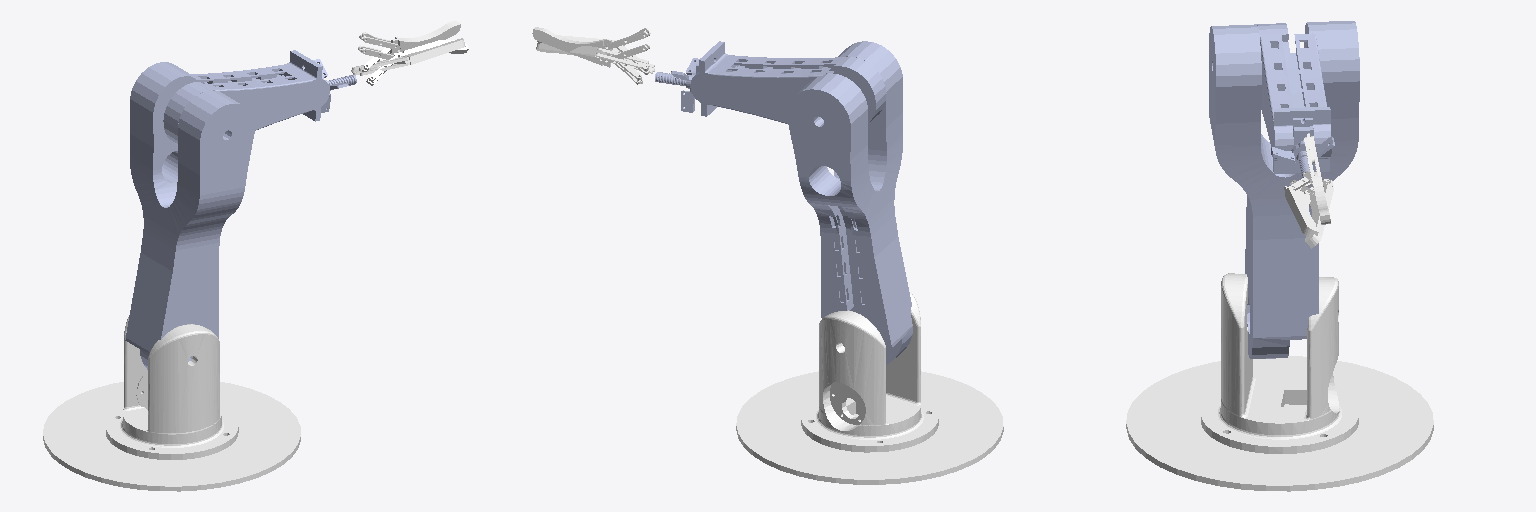
The robot description file, URDF, robot "Ensamblee":
<?xml version="1.0" encoding="utf-8"?>
<robot name="Ensamblee">

  <link name="world"/>
  <joint name="fixed_base" type="fixed">
    <parent link="world"/>
    <child link="base_link"/>
    <origin xyz="0 0 0" rpy="0 0 0"/>
  </joint>

  <link name="base_link">
    <inertial>
      <origin xyz="0.035133 0.0010982 0.059578" rpy="0 0 0" />
      <mass value="1.6222" />
      <inertia ixx="0.0057091" ixy="0.00016017" ixz="-1.9562E-07" iyy="0.0078069" iyz="7.9795E-07" izz="0.01293" />
    </inertial>
    <visual>
      <origin xyz="0 0 0" rpy="0 0 0" />
      <geometry><mesh filename="model://Ensamblee/meshes/base_link.STL" /></geometry>
      <material name="gris_azulado"><color rgba="0.79216 0.81961 0.93333 1" /></material>
    </visual>
    <collision>
      <origin xyz="0 0 0" rpy="0 0 0" />
      <geometry><mesh filename="model://Ensamblee/meshes/base_link.STL" /></geometry>
    </collision>
  </link>

  <link name="base_giratoria">
    <inertial>
      <origin xyz="-0.00012545 -0.0015041 0.14037" rpy="0 0 0" />
      <mass value="0.27811" />
      <inertia ixx="0.00049658" ixy="-4.0519E-06" ixz="-2.3048E-07" iyy="0.00045443" iyz="-3.5467E-06" izz="0.00066548" />
    </inertial>
    <visual>
      <origin xyz="0 0 0" rpy="0 0 0" />
      <geometry><mesh filename="model://Ensamblee/meshes/base_giratoria.STL" /></geometry>
      <material name="blanco"><color rgba="1 1 1 1" /></material>
    </visual>
    <collision>
      <origin xyz="0 0 0" rpy="0 0 0" />
      <geometry><mesh filename="model://Ensamblee/meshes/base_giratoria.STL" /></geometry>
    </collision>
  </link>
  <joint name="joint_1" type="revolute">
    <origin xyz="0 0 0" rpy="0 0 0" />
    <parent link="base_link" /><child link="base_giratoria" /><axis xyz="0 0 1" />
    <limit lower="-3.14" upper="3.14" effort="100" velocity="3.14" />
    <dynamics damping="10.0" friction="1.0"/>
  </joint>

  <link name="brazo_inferior">
    <inertial>
      <origin xyz="0.10277 -0.010539 0.0045472" rpy="0 0 0" />
      <mass value="0.41319" />
      <inertia ixx="0.00031344" ixy="0.00016033" ixz="4.1036E-05" iyy="0.0018606" iyz="-4.2071E-06" izz="0.0017287" />
    </inertial>
    <visual>
      <origin xyz="0 0 0" rpy="0 0 0" />
      <geometry><mesh filename="model://Ensamblee/meshes/brazo_inferior.STL" /></geometry>
      <material name="gris_azulado"><color rgba="0.79216 0.81961 0.93333 1" /></material>
    </visual>
    <collision>
      <origin xyz="0 0 0" rpy="0 0 0" />
      <geometry><mesh filename="model://Ensamblee/meshes/brazo_inferior.STL" /></geometry>
    </collision>
  </link>
  <joint name="joint_2" type="revolute">
    <origin xyz="0.00032733 0.0034847 0.1945" rpy="1.6645 -1.5708 0" />
    <parent link="base_giratoria" /><child link="brazo_inferior" /><axis xyz="0 0 -1" />
    <limit lower="-1.57" upper="1.57" effort="100" velocity="3.14" />
    <dynamics damping="15.0" friction="2.0"/>
  </joint>

  <link name="brazo_superior">
    <inertial>
      <origin xyz="0.049945 -0.003032 0.0023765" rpy="0 0 0" />
      <mass value="0.13139" />
      <inertia ixx="2.7543E-05" ixy="6.4343E-06" ixz="1.1157E-05" iyy="0.00016188" iyz="-6.8148E-07" izz="0.00016442" />
    </inertial>
    <visual>
      <origin xyz="0 0 0" rpy="0 0 0" />
      <geometry><mesh filename="model://Ensamblee/meshes/brazo_superior.STL" /></geometry>
      <material name="gris_azulado"><color rgba="0.79216 0.81961 0.93333 1" /></material>
    </visual>
    <collision>
      <origin xyz="0 0 0" rpy="0 0 0" />
      <geometry><mesh filename="model://Ensamblee/meshes/brazo_superior.STL" /></geometry>
    </collision>
  </link>
  <joint name="joint_3" type="revolute">
    <origin xyz="0.17906 -0.018361 0.00076231" rpy="0 0 -1.5708" />
    <parent link="brazo_inferior" /><child link="brazo_superior" /><axis xyz="0 0 -1" />
    <limit lower="-1.57" upper="1.57" effort="100" velocity="3.14" />
    <dynamics damping="10.0" friction="1.0"/>
  </joint>

  <link name="ensamblaje_corto">
    <inertial><mass value="0.05"/><inertia ixx="1e-4" ixy="0" ixz="0" iyy="1e-4" iyz="0" izz="1e-4"/></inertial>
    <visual>
      <origin xyz="0 0 0" rpy="0 0 0" />
      <geometry><mesh filename="model://Ensamblee/meshes/ensamblaje_corto.STL" /></geometry>
      <material name="gris_oscuro"><color rgba="0.3 0.3 0.3 1" /></material>
    </visual>
    <collision>
      <geometry><mesh filename="model://Ensamblee/meshes/ensamblaje_corto.STL" /></geometry>
    </collision>
  </link>
  <joint name="joint_corto" type="fixed">
    <origin xyz="0.125 0 0" rpy="0 0 0" />
    <parent link="brazo_superior" /><child link="ensamblaje_corto" />
  </joint>

  <link name="dedo_1">
    <visual><geometry><mesh filename="model://Ensamblee/meshes/dedo_1.STL"/></geometry><material name="blanco"/></visual>
  </link>
  <joint name="joint_4" type="revolute">
    <origin xyz="0.03 -0.01 0.01" rpy="2.25 0 0" /><parent link="ensamblaje_corto" /><child link="dedo_1" /><axis xyz="0 0 1" /><limit lower="0" upper="0.5" effort="10" velocity="1" />
  </joint>

  <link name="dedo_2">
    <visual><geometry><mesh filename="model://Ensamblee/meshes/dedo_2.STL"/></geometry><material name="blanco"/></visual>
  </link>
  <joint name="joint_5" type="revolute">
    <origin xyz="0.03 -0.01 -0.01" rpy="-1.94 0 0" /><parent link="ensamblaje_corto" /><child link="dedo_2" /><axis xyz="0 0 1" /><limit lower="0" upper="0.5" effort="10" velocity="1" />
  </joint>

  <link name="dedo_3">
    <visual><geometry><mesh filename="model://Ensamblee/meshes/dedo_3.STL"/></geometry><material name="blanco"/></visual>
  </link>
  <joint name="joint_6" type="revolute">
    <origin xyz="0.03 0.02 0" rpy="0.15 0 0" /><parent link="ensamblaje_corto" /><child link="dedo_3" /><axis xyz="0 0 1" /><limit lower="0" upper="0.5" effort="10" velocity="1" />
  </joint>

  <gazebo>
    <plugin filename="gz-sim-joint-state-publisher-system" name="gz::sim::systems::JointStatePublisher">
      <joint_name>joint_1</joint_name><joint_name>joint_2</joint_name><joint_name>joint_3</joint_name>
    </plugin>
    <plugin filename="gz-sim-joint-position-controller-system" name="gz::sim::systems::JointPositionController">
      <joint_name>joint_1</joint_name><topic>/model/Ensamblee/joint/joint_1/cmd_pos</topic>
      <p_gain>1000</p_gain><d_gain>50</d_gain> </plugin>
    <plugin filename="gz-sim-joint-position-controller-system" name="gz::sim::systems::JointPositionController">
      <joint_name>joint_2</joint_name><topic>/model/Ensamblee/joint/joint_2/cmd_pos</topic>
      <p_gain>2000</p_gain><d_gain>100</d_gain>
    </plugin>
    <plugin filename="gz-sim-joint-position-controller-system" name="gz::sim::systems::JointPositionController">
      <joint_name>joint_3</joint_name><topic>/model/Ensamblee/joint/joint_3/cmd_pos</topic>
      <p_gain>1000</p_gain><d_gain>50</d_gain>
    </plugin>
  </gazebo>

</robot>

--- What the picture shows (computed from the rendered views, not written in the file) ---
The picture shows the robot from 3 angles, left to right: view 1: azimuth 30°, elevation 25°; view 2: azimuth 150°, elevation 25°; view 3: azimuth 270°, elevation 25°; orthographic projection.
Robot: Ensamblee — 9 links, 8 joints (6 revolute, 2 fixed); root link world; default pose: all joints at 0.
Visible links, largest first — view 1: base_giratoria, brazo_inferior, brazo_superior, dedo_3, dedo_2, dedo_1; view 2: base_giratoria, brazo_inferior, brazo_superior, dedo_3, dedo_1, dedo_2; view 3: base_giratoria, brazo_inferior, brazo_superior, dedo_2, dedo_3, dedo_1.
Link boxes in pixels (bbox=[...]): base_giratoria: bbox=[43, 317, 300, 491]; brazo_inferior: bbox=[125, 62, 254, 369]; brazo_superior: bbox=[163, 50, 356, 144]; dedo_3: bbox=[358, 21, 460, 59]; dedo_2: bbox=[351, 38, 465, 75]; dedo_1: bbox=[362, 40, 468, 85]; base_giratoria: bbox=[736, 291, 1003, 484]; brazo_inferior: bbox=[787, 41, 912, 364]; brazo_superior: bbox=[655, 41, 886, 123]; dedo_3: bbox=[532, 27, 650, 67]; dedo_1: bbox=[536, 43, 654, 73]; dedo_2: bbox=[537, 35, 649, 84]; base_giratoria: bbox=[1126, 273, 1433, 491]; brazo_inferior: bbox=[1209, 21, 1359, 359]; brazo_superior: bbox=[1257, 23, 1334, 187]; dedo_2: bbox=[1284, 177, 1333, 237]; dedo_3: bbox=[1304, 133, 1330, 224]; dedo_1: bbox=[1290, 171, 1333, 248].
Size in the robot's own frame: 0.3562 by 0.1898 by 0.281 metres.
Meshes: 8 distinct files referenced, 6 mesh visuals loaded (6 binary STL); not drawn: 1 (reference not matched to a file when rendering), 1 (file found but could not be loaded).
